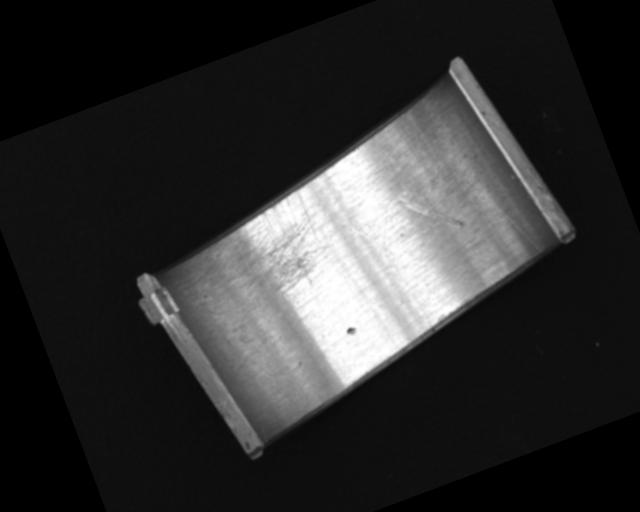bruise: (344, 323, 359, 336)
nick: (347, 211, 433, 345), (468, 166, 543, 270), (401, 182, 465, 243), (377, 142, 410, 204)
scratch: (193, 186, 344, 318)
